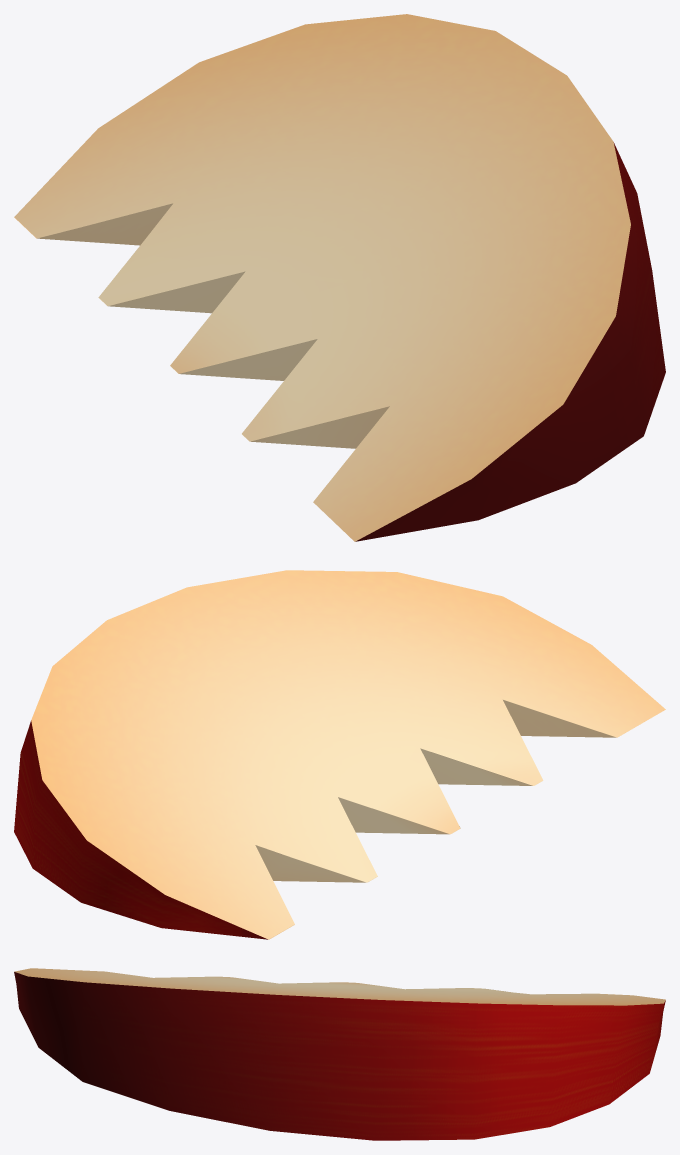
The model's file is Apple_Small02Left.fbx.
The picture shows the model from 3 angles, top to bottom: view 1: azimuth 30°, elevation 25°; view 2: azimuth 150°, elevation 25°; view 3: azimuth 270°, elevation 25°; orthographic projection. The views are drawn at different scales.
Visible parts, largest first — view 1: Apple_Small02Left; view 2: Apple_Small02Left; view 3: Apple_Small02Left.
Boxes of the visible parts, <box> form: Apple_Small02Left: <box>14,14,665,541</box>; Apple_Small02Left: <box>14,570,665,939</box>; Apple_Small02Left: <box>14,968,665,1140</box>.
Bounding box in the file's own units: 74.29 × 25.66 × 118.
